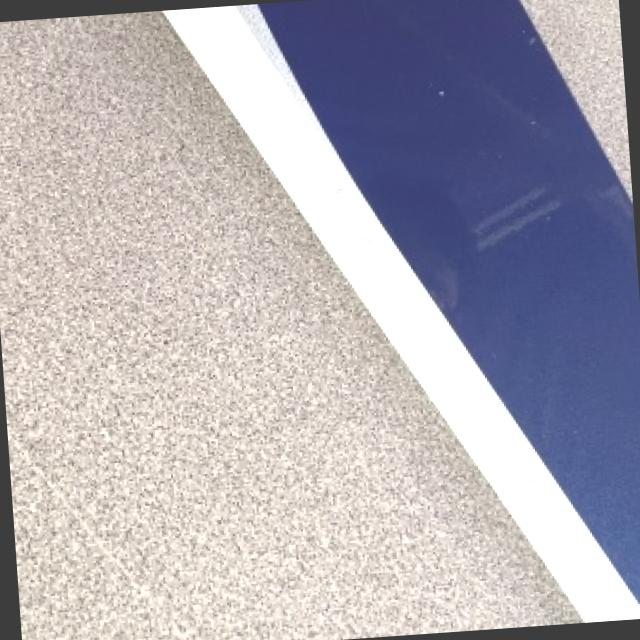healthy: (0, 11, 578, 640), (164, 0, 640, 620)
